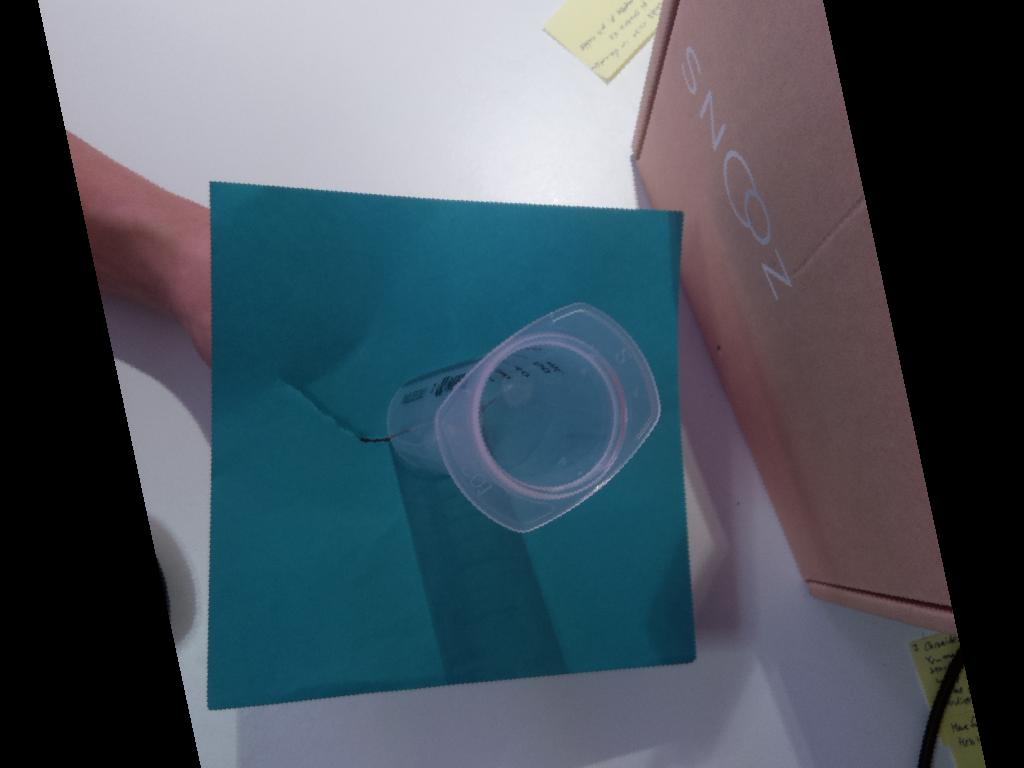clean: (436, 301, 662, 536)
